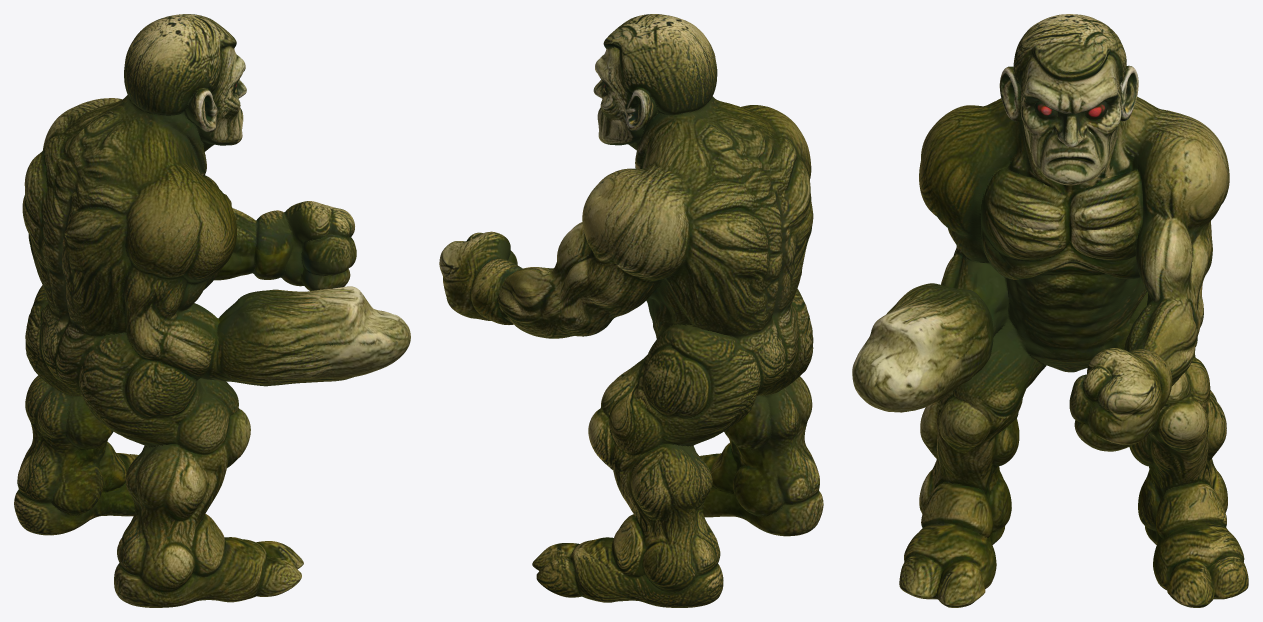
The model's file is NamorCyberSlave.glb.
The picture shows the model from 3 angles, left to right: view 1: azimuth 30°, elevation 25°; view 2: azimuth 150°, elevation 25°; view 3: azimuth 270°, elevation 25°; orthographic projection. The views are drawn at different scales.
Visible parts, largest first — view 1: tripo_node_f46d5611-a750-469a-aa41-73bf6a7392ad; view 2: tripo_node_f46d5611-a750-469a-aa41-73bf6a7392ad; view 3: tripo_node_f46d5611-a750-469a-aa41-73bf6a7392ad.
Part boxes in pixels (x1,y1,x2,y2): tripo_node_f46d5611-a750-469a-aa41-73bf6a7392ad: (14,14,410,607); tripo_node_f46d5611-a750-469a-aa41-73bf6a7392ad: (439,14,823,607); tripo_node_f46d5611-a750-469a-aa41-73bf6a7392ad: (852,14,1248,607).
Bounding box in the file's own units: 0.6367 × 1 × 0.6361.
1 material, 1 textured.
